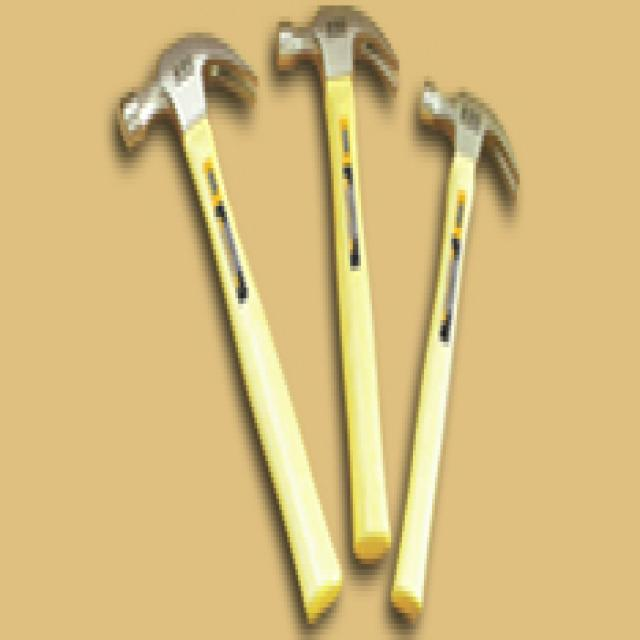hammer: (101, 27, 280, 524), (269, 1, 404, 622), (405, 44, 525, 616)
